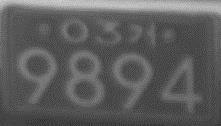0: (61, 16, 89, 44)
3: (93, 17, 120, 46)
4: (158, 54, 204, 115)
8: (65, 48, 105, 108)
9: (111, 51, 152, 110), (17, 45, 58, 103)
거: (124, 21, 157, 47)
